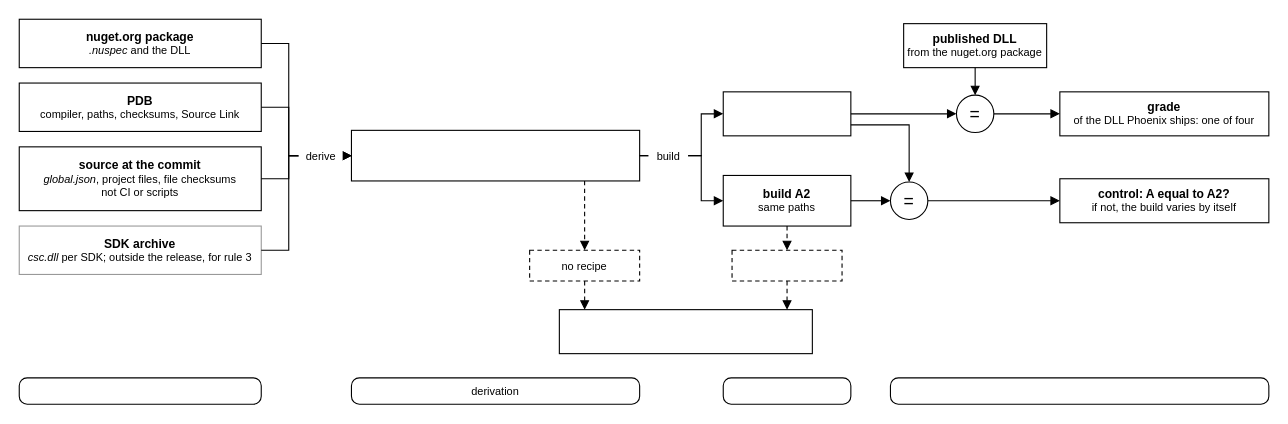
The diagram is 1288 pixels wide and 424 high, and some of its shapes have lost their labels. Here are the shapes that lost their labels. From the top down, the centre of each, then its label:
At point 786,113: "build A".
At point 495,155: "recipe SDK, OS, build folder, line endings, project, version".
At point 786,265: "no package".
At point 685,331: "not built, recorded rule or error kept, counted in the result".
At point 139,390: "reading the release".
At point 786,390: "build and pack, twice".
At point 1079,390: "comparison".
